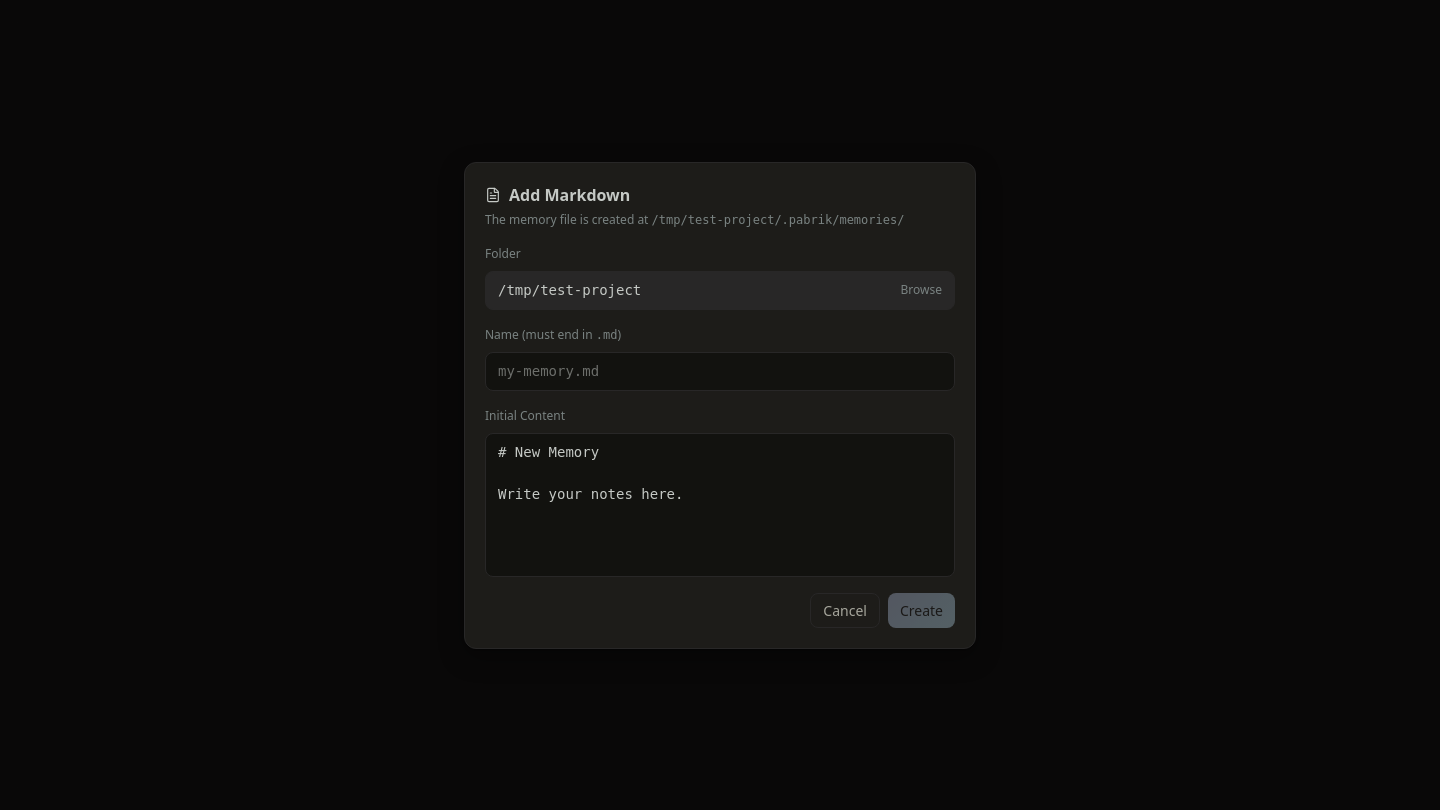
Test case: AddMemoryDialog — folder picker › clicking "Folder" opens the file picker
Click the button with test id "add-memory-choose-folder" at (570, 290), box [485, 270, 955, 310]
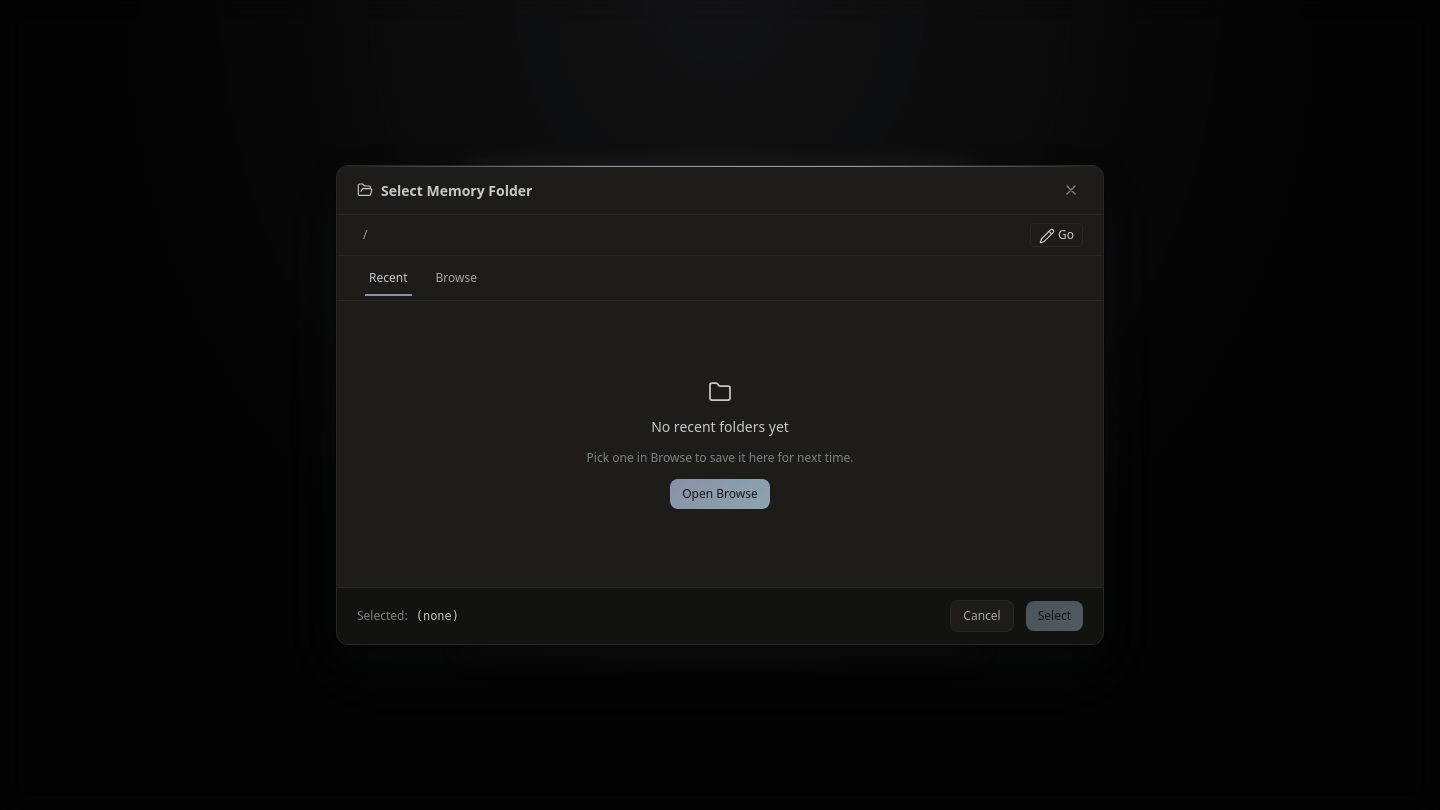
expect the element with test id "file-picker-dialog" is shown: met, box [336, 165, 1104, 645]
expect the element with test id "file-picker-dialog" shows "Select Memory Folder": met, box [381, 180, 532, 200]
